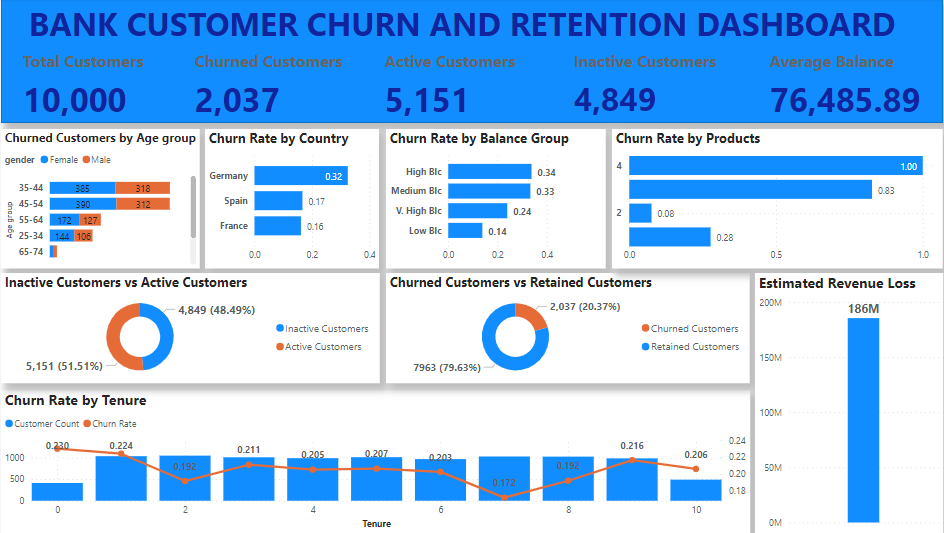

What the dashboard file says about the page in this screenshot:
{"tool":"powerbi","page":{"name":"Page 1","canvas":[1280,720],"ordinal":0},"visuals":[{"type":"shape","box":[9.3,0,1256,166.7],"z":0},{"type":"textbox","box":[41.3,0,1169.3,84],"z":1000},{"type":"cardVisual","fields":{"Data":["customer_churn_data.Total Customers"]},"box":[21.3,52,213.3,114.7],"z":2000},{"type":"cardVisual","fields":{"Data":["customer_churn_data.Churned Customers"]},"box":[250.7,52,253.3,113.3],"z":3000},{"type":"cardVisual","fields":{"Data":["customer_churn_data.Active Customers"]},"box":[504,52,234.7,114.7],"z":4000},{"type":"cardVisual","fields":{"Data":["customer_churn_data.Inactive Customers"]},"box":[756,52,238.7,114.7],"z":5000},{"type":"cardVisual","fields":{"Data":["customer_churn_data.Average Balance"]},"box":[1017.3,52,252,114.7],"z":6000},{"type":"barChart","title":"Churned Customers by Age group","fields":{"Category":["customer_churn_data.Age group"],"Series":["customer_churn_data.gender"],"Y":["customer_churn_data.Churned Customers"]},"box":[9.6,174.6,265.3,185.6],"z":7000},{"type":"barChart","title":"Churn Rate by Country","fields":{"Category":["customer_churn_data.country"],"Y":["customer_churn_data.Churn Rate by Country"]},"box":[281.8,174.6,232.4,185.6],"z":8000},{"type":"clusteredBarChart","title":"Churn Rate by Balance Group","fields":{"Category":["customer_churn_data.Balance Group"],"Y":["customer_churn_data.Churn Rate by Balance"]},"box":[522.4,174.6,292.8,185.6],"z":9000},{"type":"lineClusteredColumnComboChart","title":"Churn Rate by Tenure","fields":{"Y2":["customer_churn_data.Churn Rate"],"Y":["customer_churn_data.Customer Count"],"Category":["customer_churn_data.tenure"]},"box":[9.3,522.7,998.7,190.7],"z":10000},{"type":"donutChart","title":"Inactive Customers vs Active Customers","fields":{"Y":["customer_churn_data.Inactive Customers","customer_churn_data.Active Customers"]},"box":[9.6,367.1,504.6,147.1],"z":11000},{"type":"donutChart","title":"Churned Customers vs Retained Customers","fields":{"Y":["customer_churn_data.Churned Customers","customer_churn_data.Retained Customers"]},"box":[522.4,367.1,485.3,147.1],"z":13000},{"type":"clusteredBarChart","title":"Churn Rate by Products","fields":{"Category":["customer_churn_data.products_number"],"Y":["customer_churn_data.Churn Rate by Product"]},"box":[823.5,174.6,441.3,185.6],"z":14000},{"type":"columnChart","fields":{"Y":["customer_churn_data.Estimated Revenue Loss"]},"box":[1014.7,366.7,250.7,346.7],"z":15000}]}

Visuals, with their boxes in screenshot pixels (x1, y1, x2, y2), scaled from the page's 1280x720 canvas onto the 944x533 screenshot:
shape: BBox(7, 0, 933, 123)
textbox: BBox(30, 0, 893, 62)
cardVisual - customer_churn_data.Total Customers: BBox(16, 38, 173, 123)
cardVisual - customer_churn_data.Churned Customers: BBox(185, 38, 372, 122)
cardVisual - customer_churn_data.Active Customers: BBox(372, 38, 545, 123)
cardVisual - customer_churn_data.Inactive Customers: BBox(558, 38, 734, 123)
cardVisual - customer_churn_data.Average Balance: BBox(750, 38, 936, 123)
"Churned Customers by Age group" barChart: BBox(7, 129, 203, 267)
"Churn Rate by Country" barChart: BBox(208, 129, 379, 267)
"Churn Rate by Balance Group" clusteredBarChart: BBox(385, 129, 601, 267)
"Churn Rate by Tenure" lineClusteredColumnComboChart: BBox(7, 387, 743, 528)
"Inactive Customers vs Active Customers" donutChart: BBox(7, 272, 379, 381)
"Churned Customers vs Retained Customers" donutChart: BBox(385, 272, 743, 381)
"Churn Rate by Products" clusteredBarChart: BBox(607, 129, 933, 267)
columnChart - customer_churn_data.Estimated Revenue Loss: BBox(748, 271, 933, 528)
